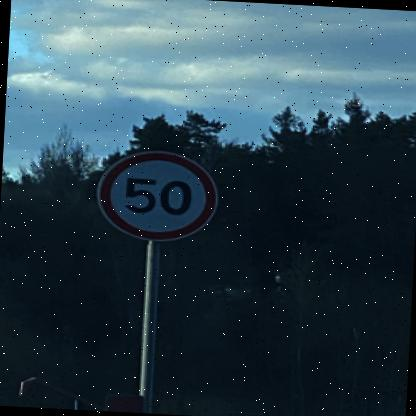speedlimit: (92, 146, 218, 243)
